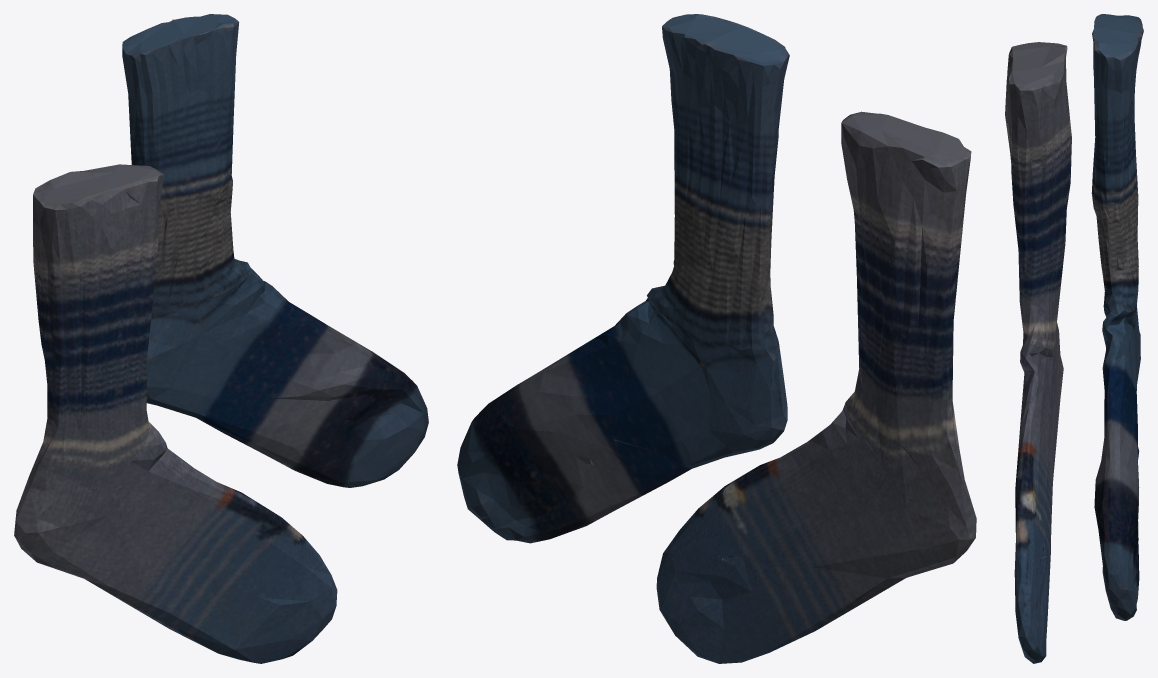
The model's file is 64AB9AAE-ABA6-E043-94D0-EC5CE4450E7C_512.glb.
3 renders of one model, left to right at view 1: azimuth 30°, elevation 25°; view 2: azimuth 150°, elevation 25°; view 3: azimuth 270°, elevation 25°, orthographic. The views are drawn at different scales.
Parts seen in each view (by area): view 1: Widerstandssocken_1.8k_0.5k; view 2: Widerstandssocken_1.8k_0.5k; view 3: Widerstandssocken_1.8k_0.5k.
Boxes of the visible parts, bbox=[...] form: Widerstandssocken_1.8k_0.5k: bbox=[14, 14, 428, 663]; Widerstandssocken_1.8k_0.5k: bbox=[457, 14, 976, 663]; Widerstandssocken_1.8k_0.5k: bbox=[1005, 14, 1143, 663].
Bounding box in the file's own units: 0.3432 × 0.4598 × 0.0954.
1 material, 1 textured.
